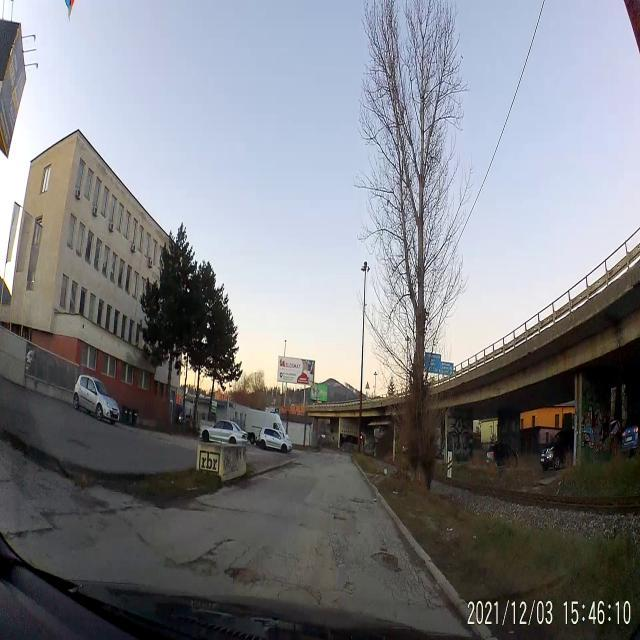Pothole: (176, 536, 230, 574), (364, 545, 402, 573), (224, 566, 258, 588), (329, 506, 348, 528), (348, 496, 366, 505)
